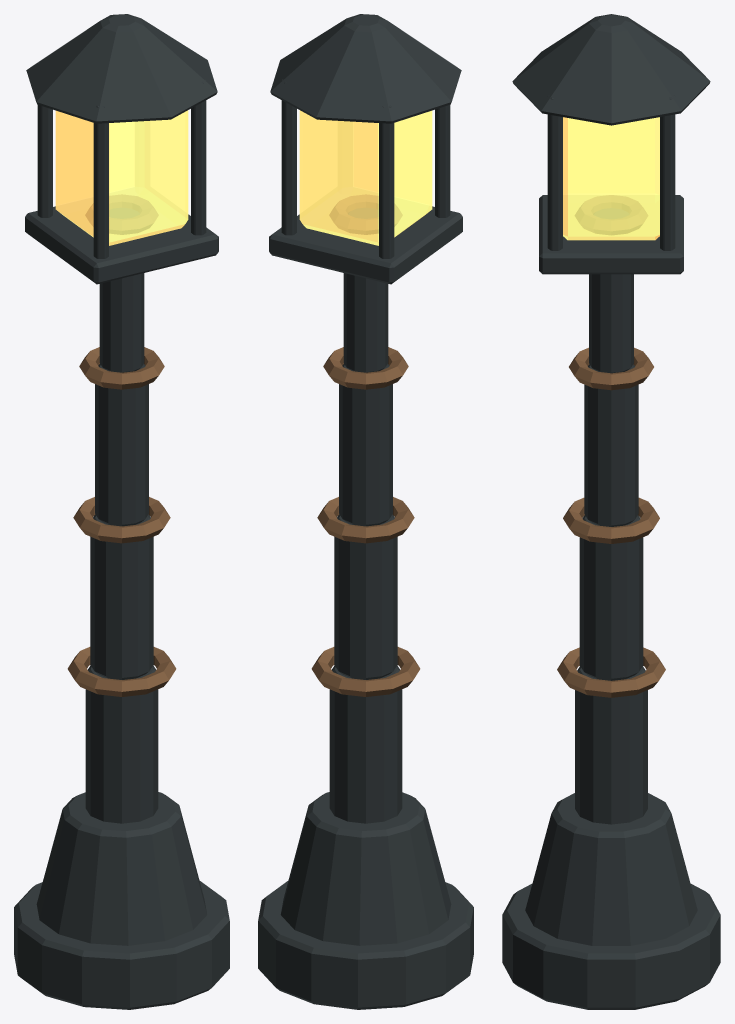
The model's file is runtime.glb.
The picture shows the model from 3 angles, left to right: view 1: azimuth 30°, elevation 25°; view 2: azimuth 150°, elevation 25°; view 3: azimuth 270°, elevation 25°; orthographic projection.
Parts seen in each view (by area): view 1: eiffel-historic-lamp-v03_nocol; view 2: eiffel-historic-lamp-v03_nocol; view 3: eiffel-historic-lamp-v03_nocol.
Part boxes in pixels (x1,y1,x2,y2): eiffel-historic-lamp-v03_nocol: (14,14,229,1009); eiffel-historic-lamp-v03_nocol: (258,14,473,1009); eiffel-historic-lamp-v03_nocol: (502,14,720,1009).
Size of the model in its own units: 0.8189 by 4.02 by 0.84.
